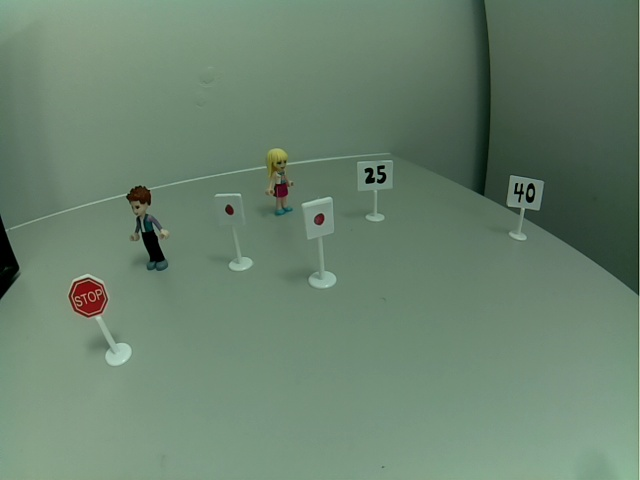people: (123, 183, 174, 273), (263, 147, 298, 217)
red light: (303, 194, 336, 241), (214, 192, 247, 228)
speed 25: (355, 159, 394, 192)
speed 40: (506, 173, 546, 212)
stop: (65, 273, 111, 320)
